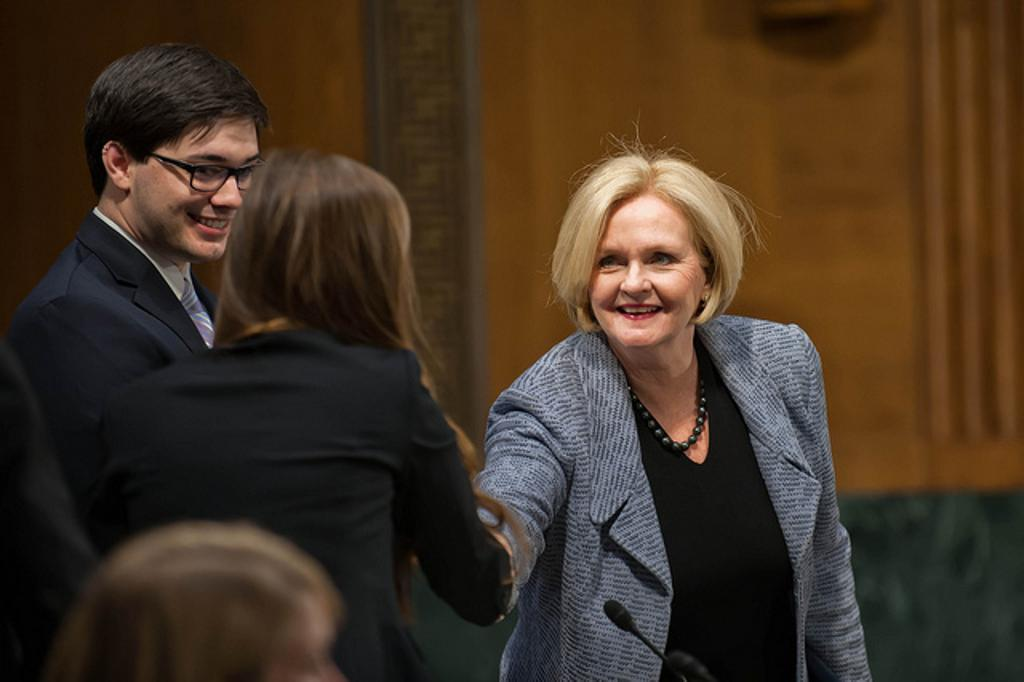face: (590, 192, 702, 344), (148, 116, 258, 260)
